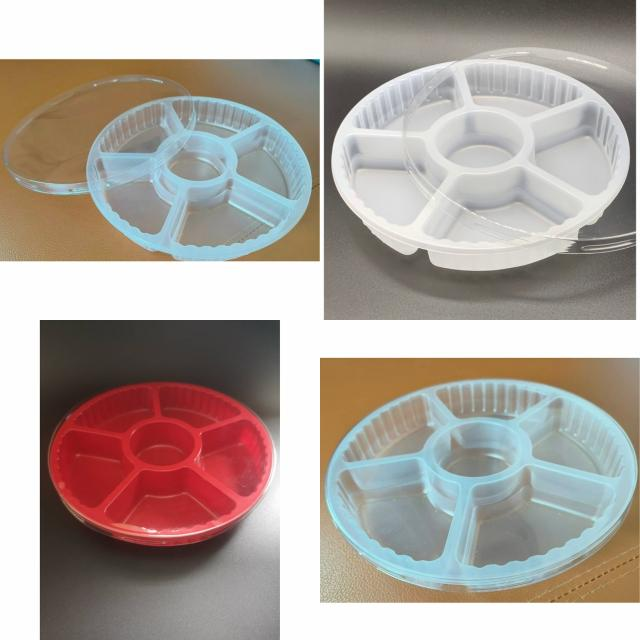Single-Use-Plastic: (325, 379, 638, 591), (332, 58, 630, 270), (49, 384, 274, 546), (88, 98, 312, 260), (4, 75, 196, 195)
